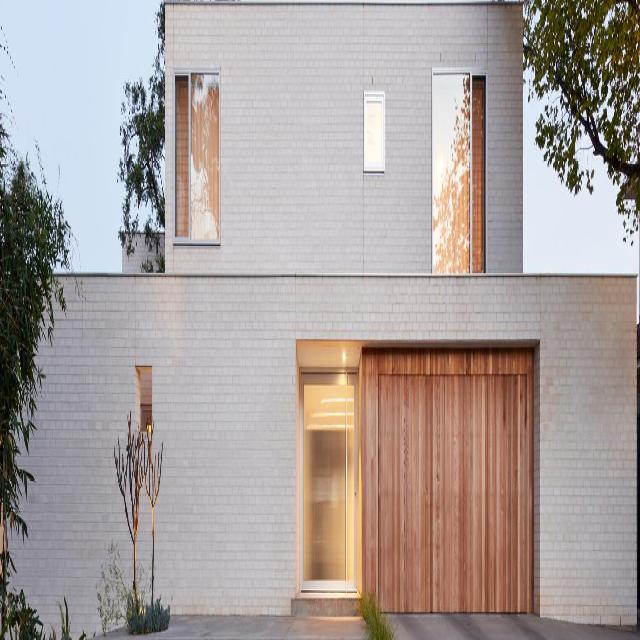door: (298, 373, 358, 604)
plant: (0, 116, 74, 638), (525, 0, 640, 242)
wall: (0, 0, 638, 633)
windows: (430, 71, 486, 280), (173, 67, 220, 248), (364, 90, 384, 170)
